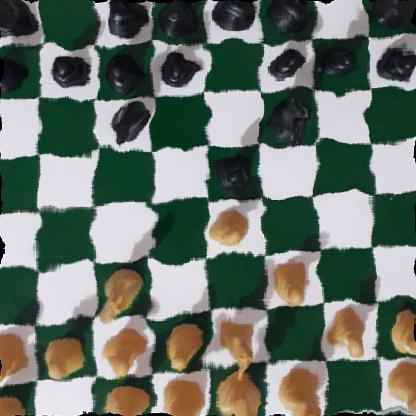black-bishop: (101, 0, 149, 41), (265, 0, 310, 32)
black-king: (208, 0, 256, 34)
black-knight: (265, 92, 310, 147), (109, 100, 152, 146)
black-pawn: (50, 44, 88, 93), (213, 148, 255, 192), (107, 45, 144, 92), (375, 41, 416, 82), (161, 42, 197, 88), (322, 39, 361, 79), (268, 43, 305, 84), (0, 53, 26, 91)
black-queen: (156, 0, 200, 37)
black-rook: (0, 0, 36, 40), (373, 0, 416, 27)
white-bishop: (275, 368, 325, 416), (100, 383, 150, 416)
white-king: (218, 366, 264, 416)
white-knight: (213, 310, 258, 384), (96, 264, 139, 322)
white-pawn: (39, 330, 88, 378), (158, 318, 205, 367), (329, 305, 372, 358), (269, 259, 312, 308), (104, 327, 143, 377), (209, 205, 249, 248), (0, 331, 29, 382), (389, 305, 416, 356)
white-queen: (157, 377, 204, 416)
white-rook: (387, 357, 416, 416), (0, 387, 24, 416)
